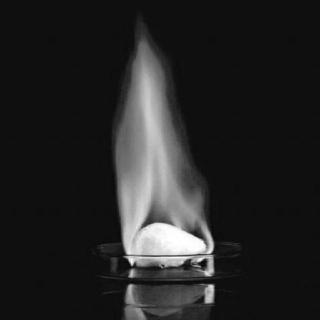Fire: (81, 25, 233, 268)
